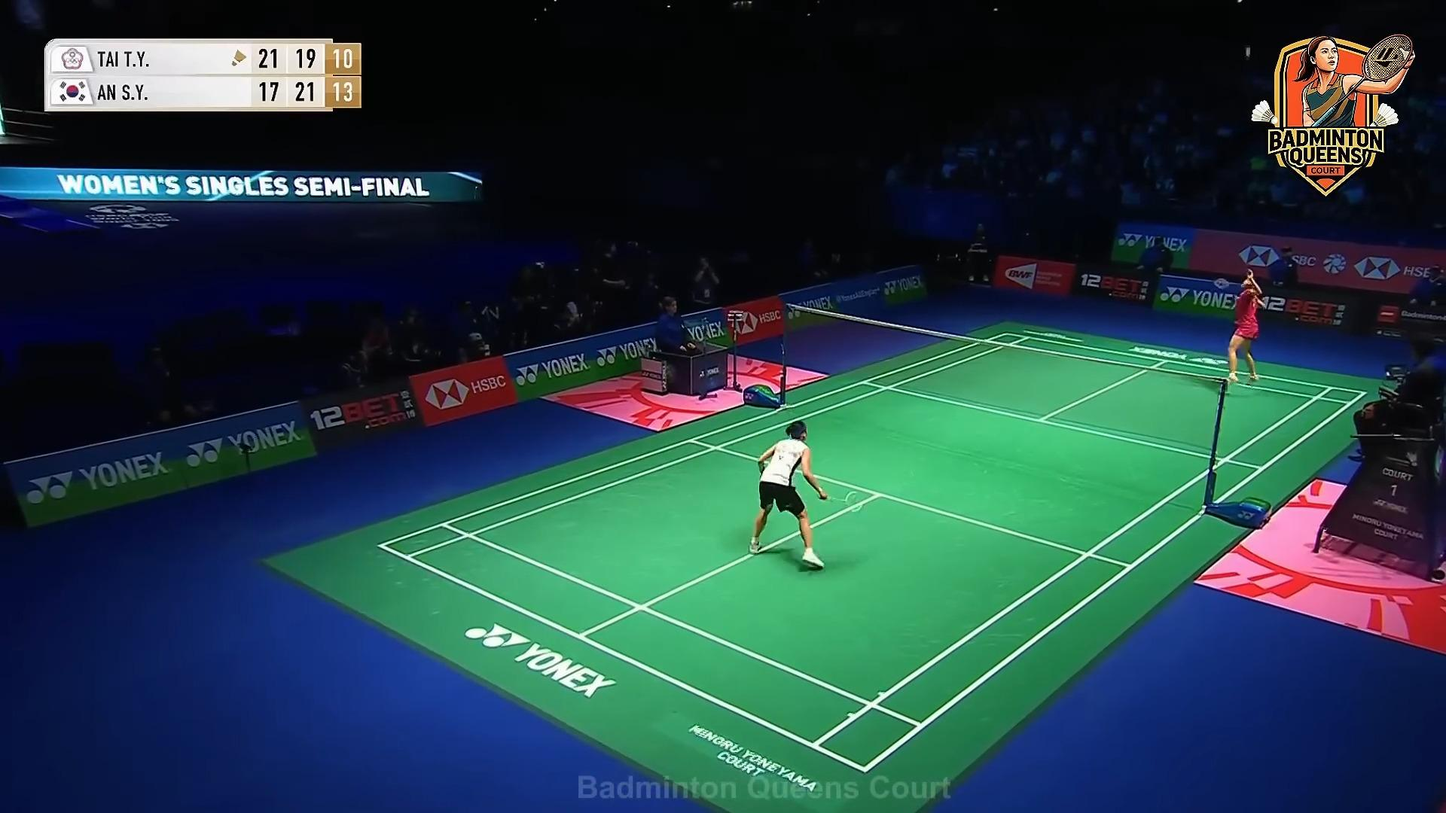player: (749, 420, 827, 573), (1222, 266, 1264, 388)
